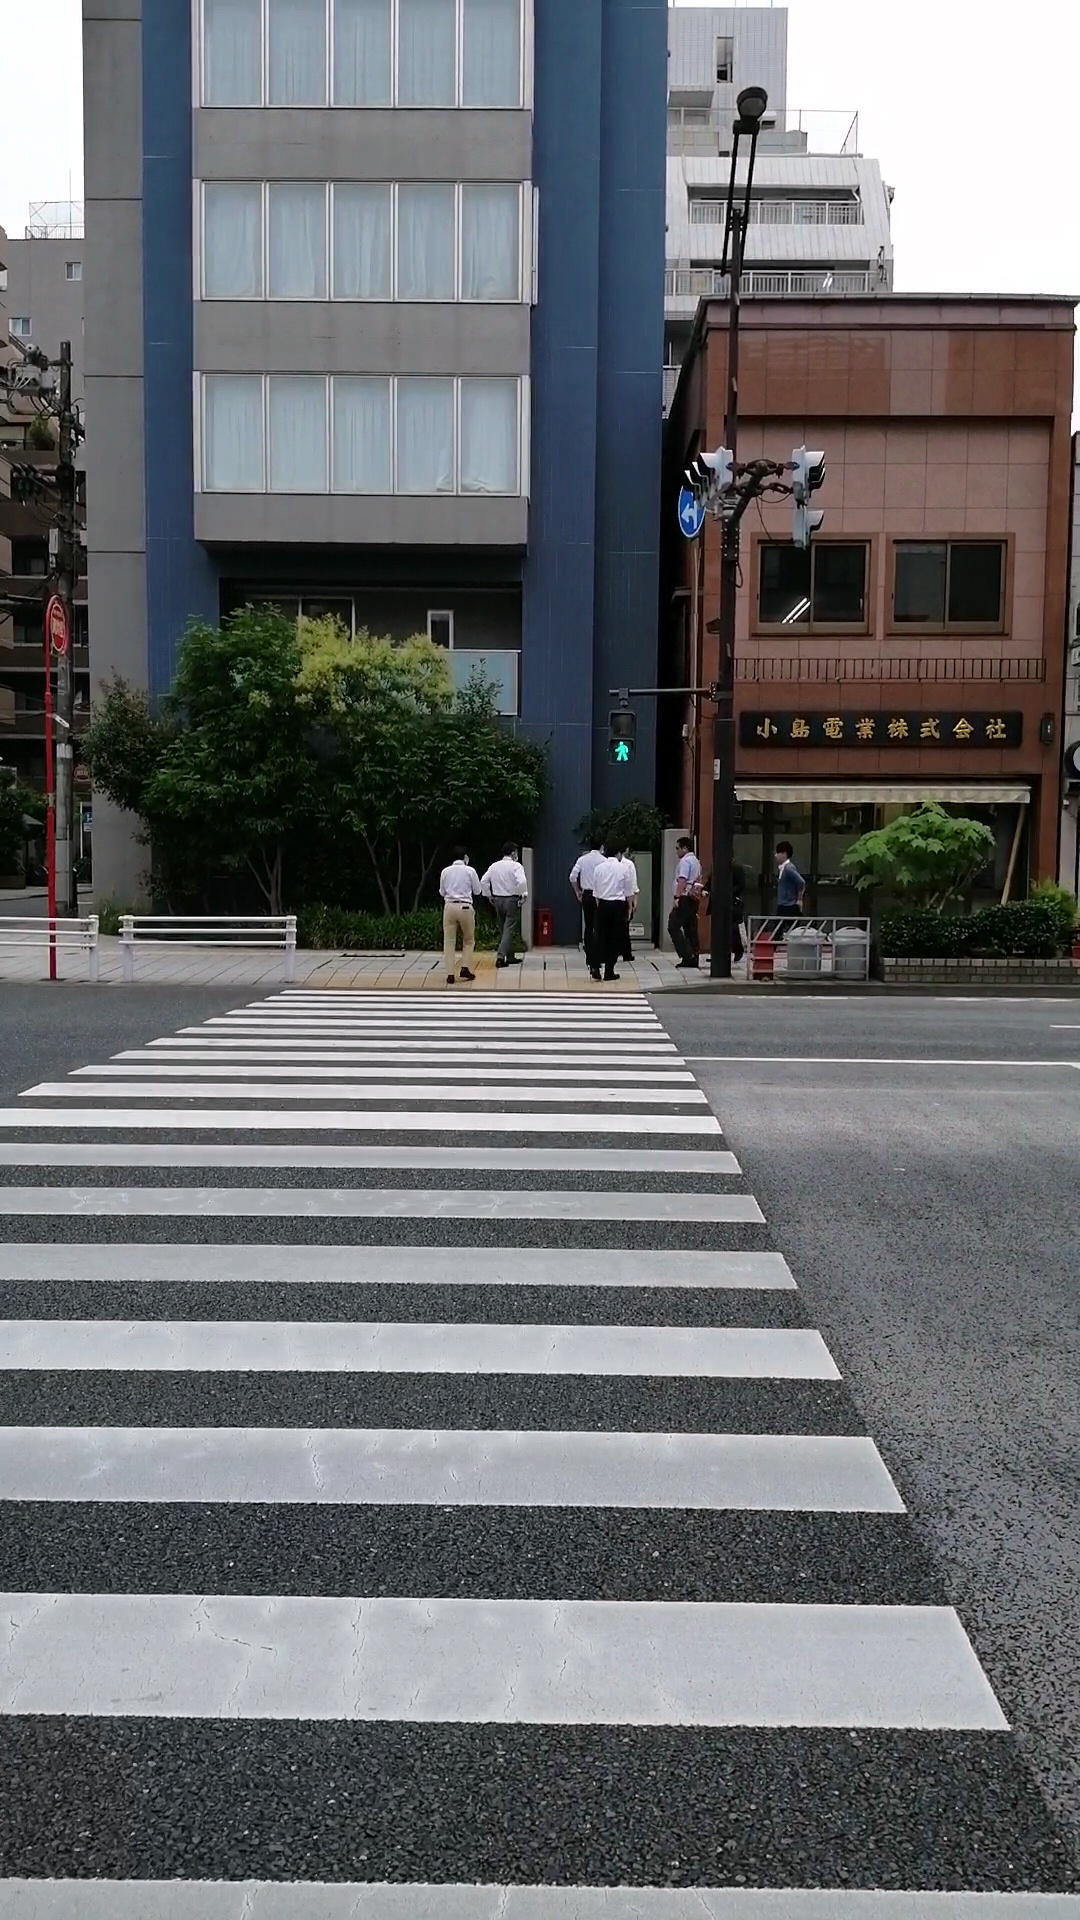green: (607, 708, 637, 767)
